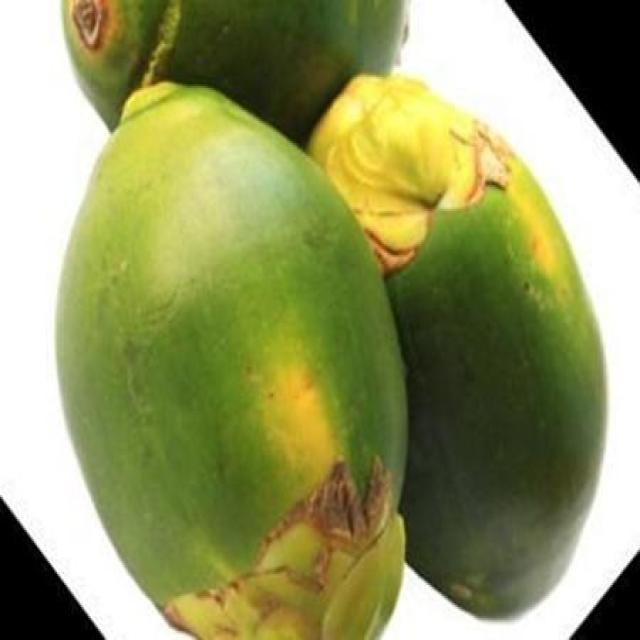good: (51, 81, 410, 638), (307, 75, 610, 622)
